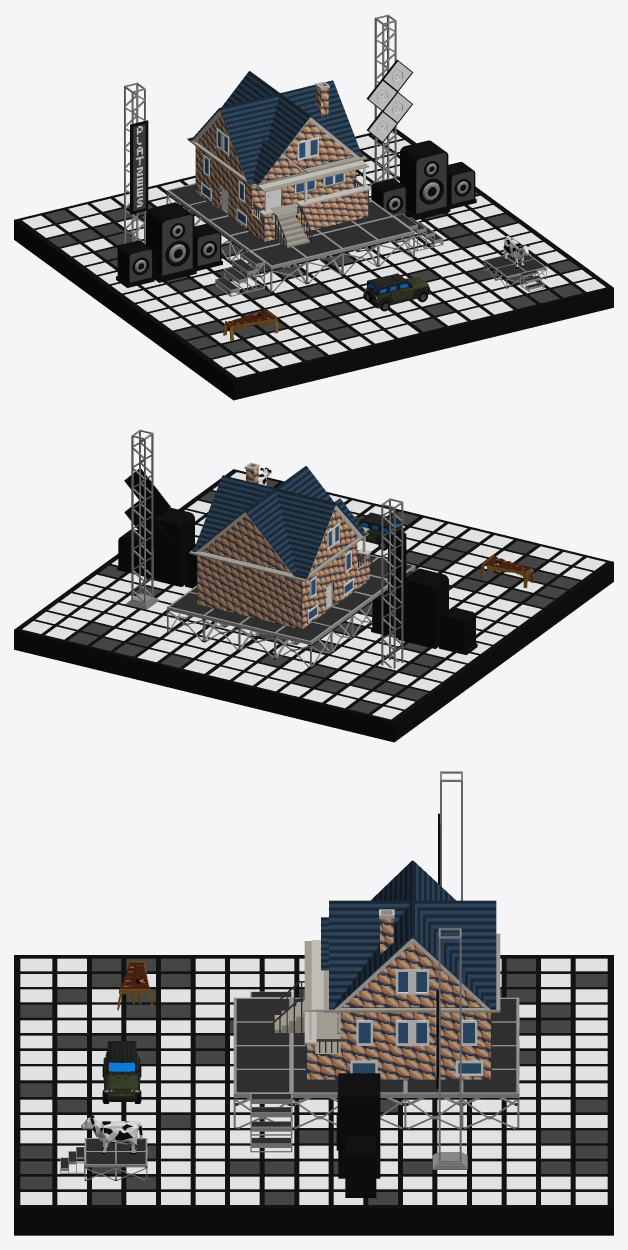
3 views of the same model, one above another, from view 1: azimuth 30°, elevation 25°; view 2: azimuth 150°, elevation 25°; view 3: azimuth 270°, elevation 25° (orthographic). The views are drawn at different scales.
Parts seen in each view (by area): view 1: Cube.008, Cube.430, VEHICLES_JEEP, OBJRANDOM_MARIMBA; view 2: Cube.008, Cube.430, VEHICLES_JEEP, OBJRANDOM_MARIMBA; view 3: Cube.008, Cube.430, VEHICLES_JEEP, ANIMAL_VACA, OBJRANDOM_MARIMBA.
Part boxes in pixels (x1,y1,x2,y2): Cube.008: (14,14,613,400); Cube.430: (187,71,371,248); VEHICLES_JEEP: (363,273,430,311); OBJRANDOM_MARIMBA: (223,309,278,340); Cube.008: (14,429,613,742); Cube.430: (189,462,372,629); VEHICLES_JEEP: (354,512,404,550); OBJRANDOM_MARIMBA: (480,555,534,588); Cube.008: (14,771,613,1235); Cube.430: (272,860,500,1080); VEHICLES_JEEP: (102,1041,141,1103); ANIMAL_VACA: (81,1115,142,1154); OBJRANDOM_MARIMBA: (117,961,153,1010).
Size of the model in its own units: 4000 by 1945 by 4000.
Materials: 38 (2 with a texture image).
